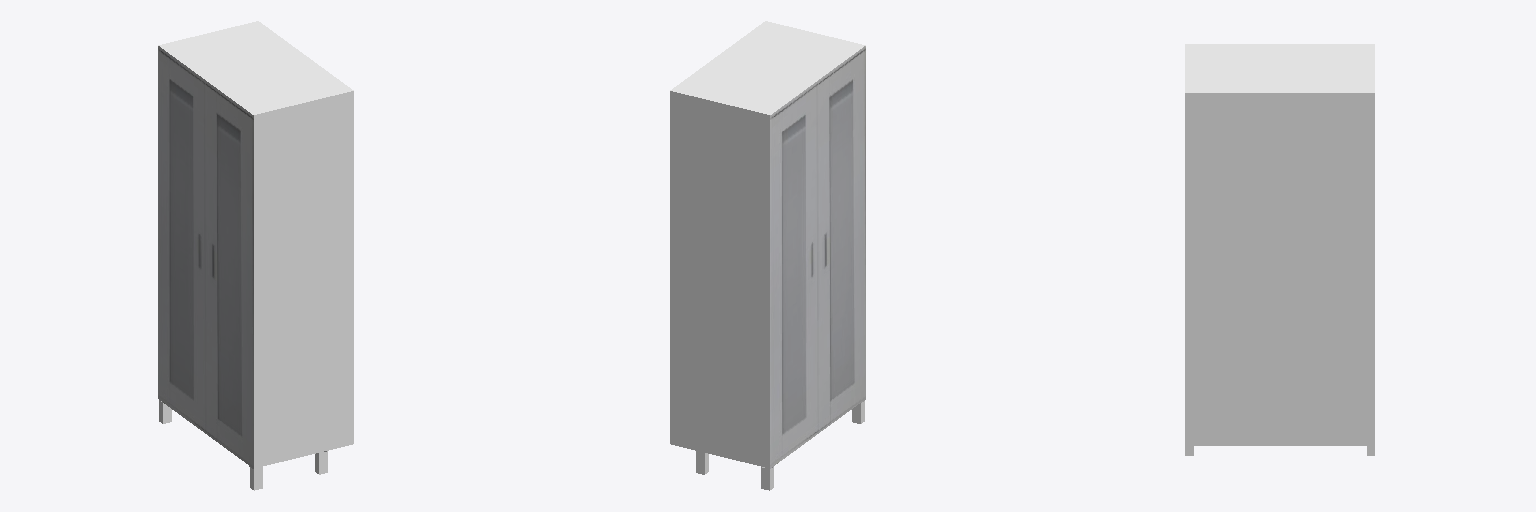
3 renders of one model, left to right at view 1: azimuth 30°, elevation 25°; view 2: azimuth 150°, elevation 25°; view 3: azimuth 270°, elevation 25°, orthographic.
Parts seen in each view (by area): view 1: Mesh2 Group1 Model; view 2: Mesh2 Group1 Model; view 3: Mesh2 Group1 Model.
Part boxes in pixels (left/top/right/bottom): Mesh2 Group1 Model: left=158, top=21, right=353, bottom=490; Mesh2 Group1 Model: left=670, top=21, right=865, bottom=474; Mesh2 Group1 Model: left=1185, top=44, right=1374, bottom=455.
Size of the model in its own units: 49.66 by 178 by 81.73.
Materials: 2 (1 with a texture image).